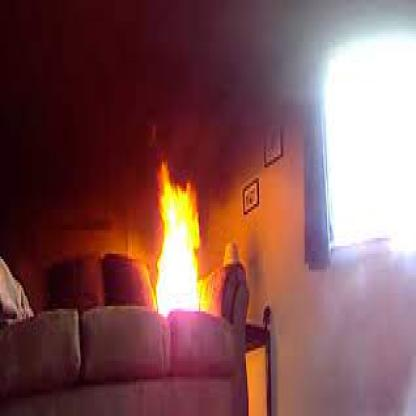fire: (158, 168, 212, 323)
smoke: (0, 0, 416, 416)
